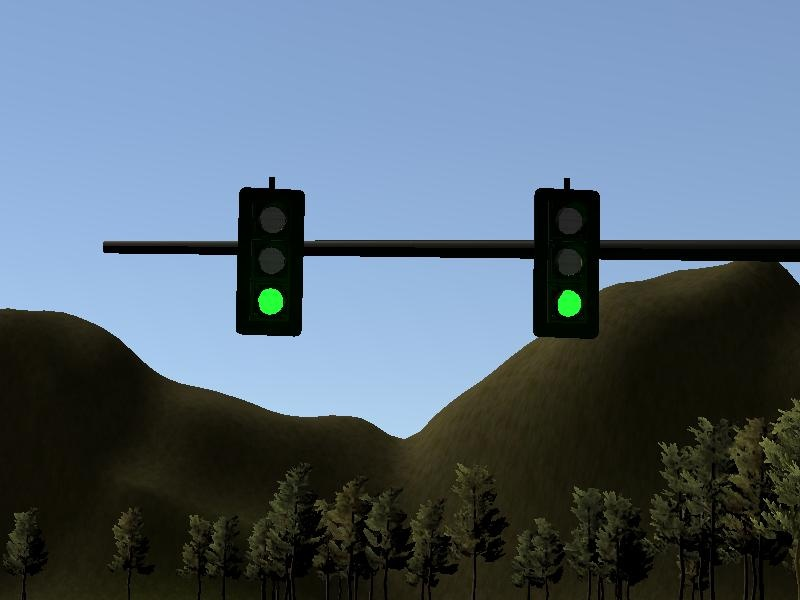green: (534, 188, 599, 340), (239, 188, 303, 337)
